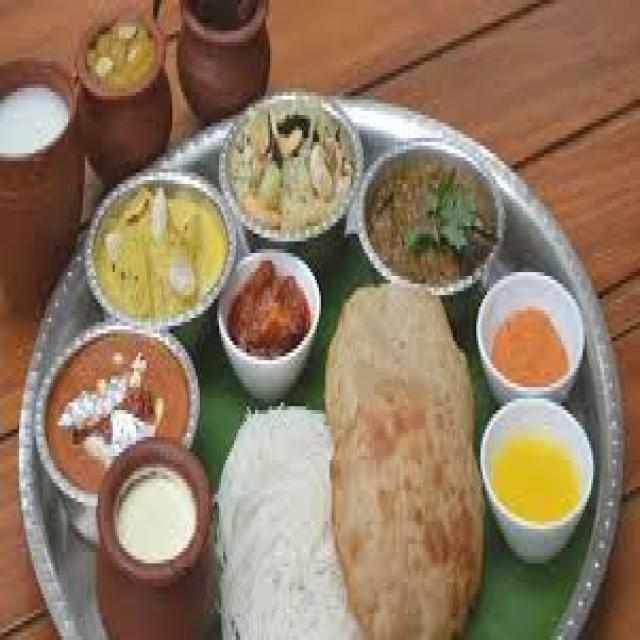curd: (105, 461, 206, 575)
dal: (88, 177, 222, 319)
papad: (332, 290, 478, 626)
raita: (2, 80, 70, 164)
rice: (216, 417, 341, 637)
sambar-rasam: (51, 322, 196, 473), (478, 275, 584, 399)
sweet: (51, 326, 198, 478), (481, 277, 585, 397), (225, 255, 321, 367)
veg-fry: (363, 136, 492, 296), (222, 252, 319, 366)
